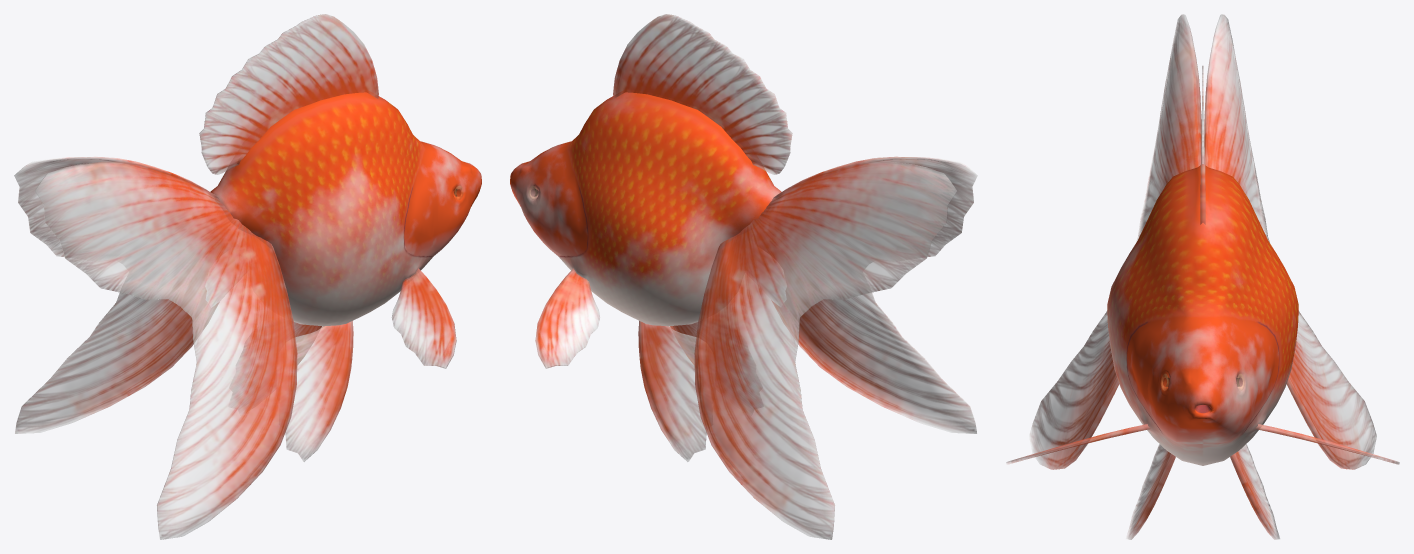
The model's file is golden.glb.
The picture shows the model from 3 angles, left to right: view 1: azimuth 30°, elevation 25°; view 2: azimuth 150°, elevation 25°; view 3: azimuth 270°, elevation 25°; orthographic projection. The views are drawn at different scales.
Parts seen in each view (by area): view 1: golden; view 2: golden; view 3: golden.
Part boxes in pixels (<box>): golden: <box>14,14,481,539</box>; golden: <box>510,14,977,539</box>; golden: <box>1006,14,1399,539</box>.
Size of the model in its own units: 1 by 0.8821 by 0.6303.
3 materials, 3 textured.
